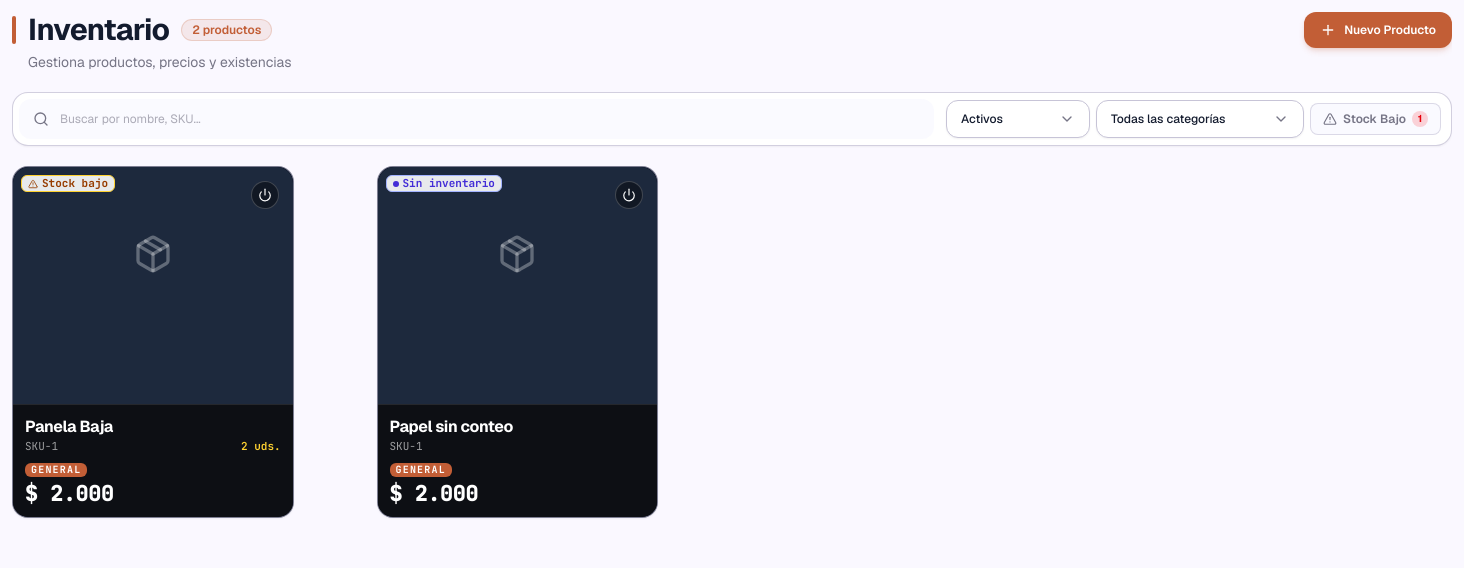
Test case: Inventory page — characterization (current behavior) › trusts the server flag over the numbers for an untracked product with stale stock
Click the button "Stock Bajo 1" at (1376, 119), box [1310,103,1441,135]
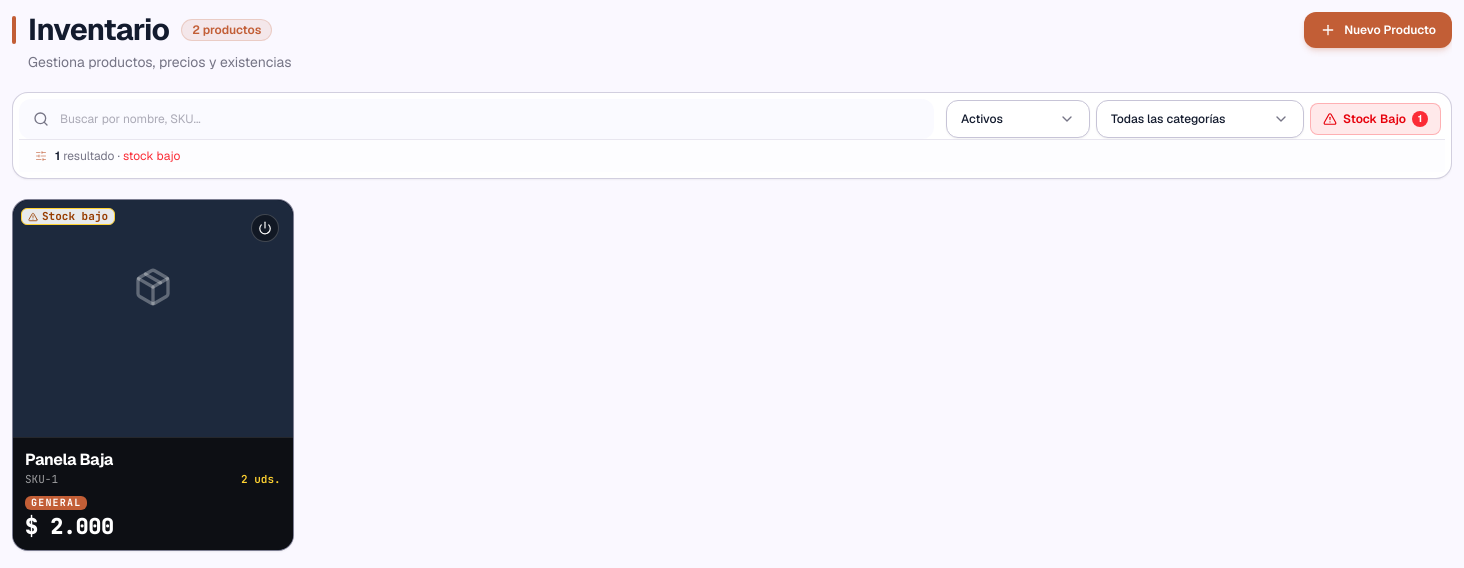
Expected: the heading "Panela Baja" is shown, [25,449,113,470]
Now the heading "Papel sin conteo" is gone
